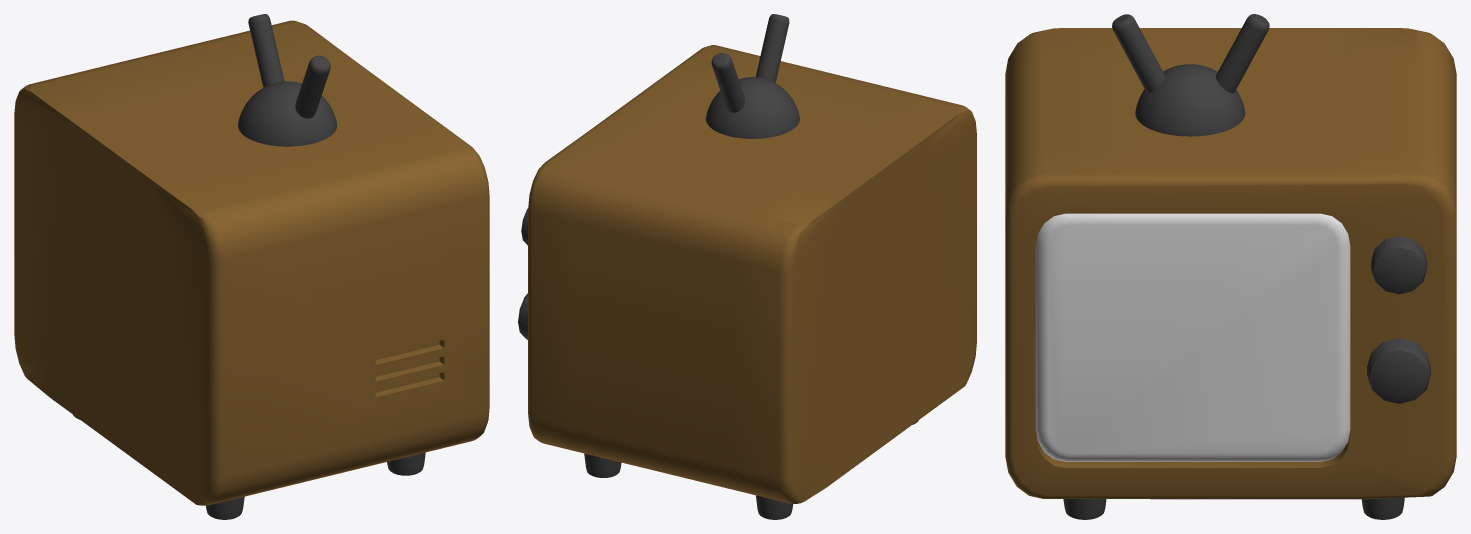
3 renders of one model, left to right at view 1: azimuth 30°, elevation 25°; view 2: azimuth 150°, elevation 25°; view 3: azimuth 270°, elevation 25°, orthographic. The views are drawn at different scales.
Parts seen in each view (by area): view 1: Cylinder.001, Cylinder.009, Cylinder.002; view 2: Cylinder.001, Cylinder.009, Cylinder.002, potensiometer; view 3: Cylinder.001, Cylinder.009, potensiometer, Cylinder.002.
Part boxes in pixels (bbox=[...]): Cylinder.001: bbox=[14, 20, 489, 505]; Cylinder.009: bbox=[238, 14, 337, 146]; Cylinder.002: bbox=[73, 415, 425, 519]; Cylinder.001: bbox=[528, 45, 976, 503]; Cylinder.009: bbox=[705, 14, 799, 138]; Cylinder.002: bbox=[584, 420, 918, 519]; potensiometer: bbox=[518, 208, 528, 339]; Cylinder.001: bbox=[1005, 28, 1456, 499]; Cylinder.009: bbox=[1112, 14, 1269, 136]; potensiometer: bbox=[1367, 236, 1430, 403]; Cylinder.002: bbox=[1063, 497, 1404, 519].
Size of the model in its own units: 216 by 284 by 253.
